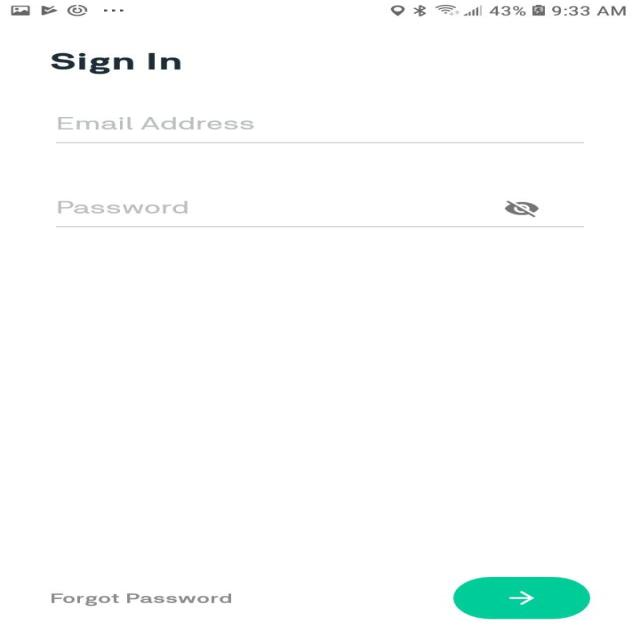EditText: (55, 116, 584, 143), (55, 200, 584, 227)
Icon: (504, 200, 539, 217)
Text: (51, 53, 180, 75), (58, 116, 254, 130), (50, 592, 232, 606), (56, 201, 188, 214)
TextButton: (452, 577, 590, 619)
